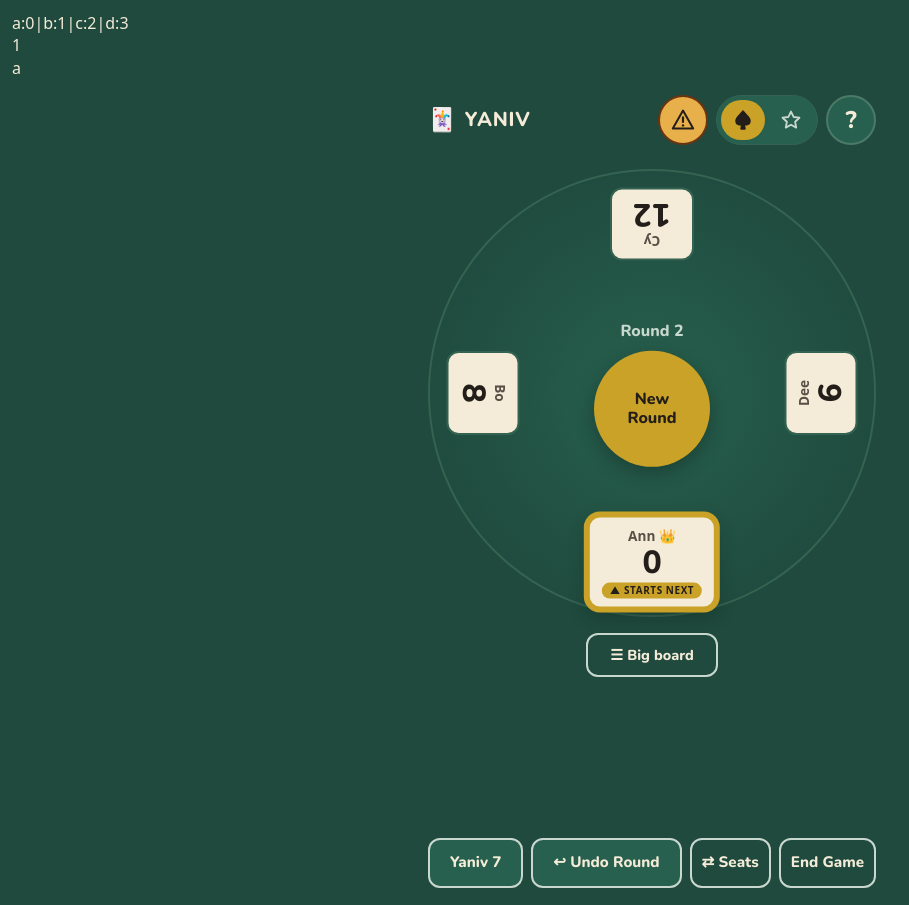
Test: Rearrange seats — entering and leaving the mode › says plainly that only the circle view changes, and never says "deal"
The image size is (909, 905).
Click the button with aria-label "Rearrange seats": (730, 863) [690,838,771,888]
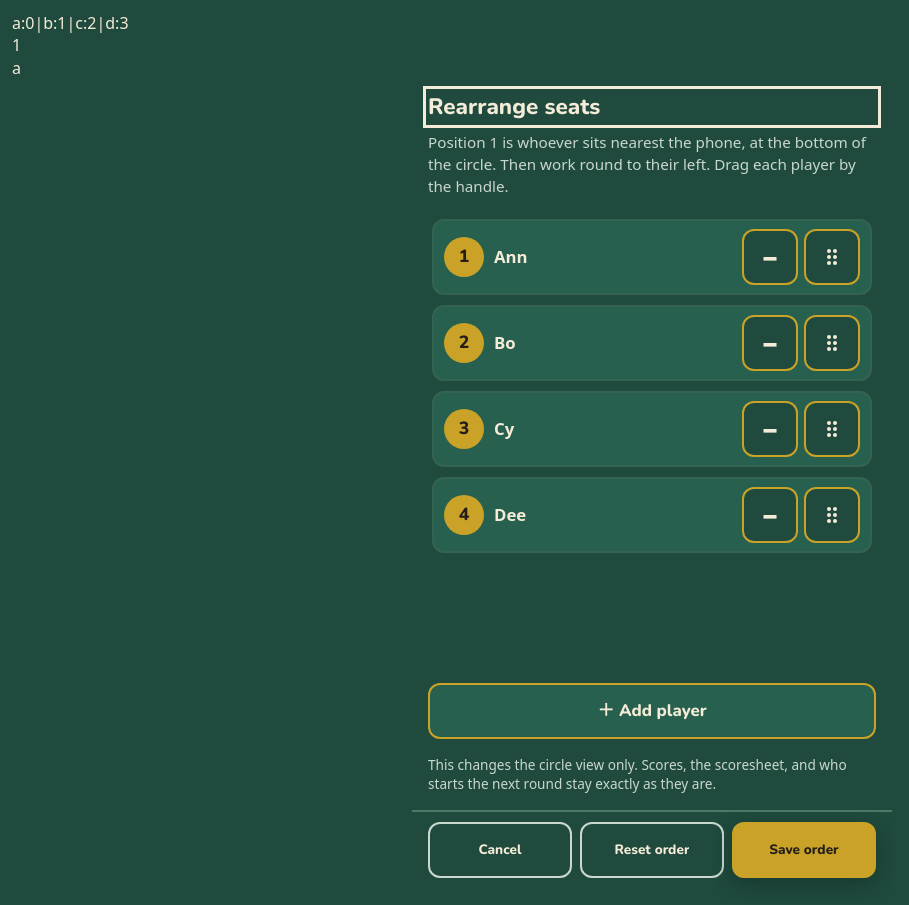
Expected: the element with test id "rearrange-seats" shows "circle view only", [428,755,847,793]
Expected: the element with test id "rearrange-seats" shows "who starts the next round", [428,755,847,793]
